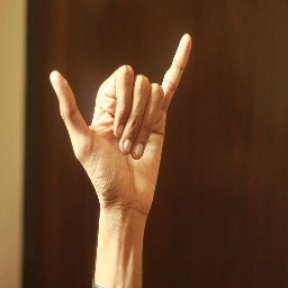J: (48, 30, 194, 204)
